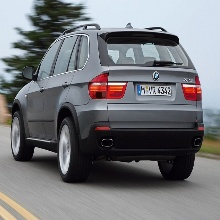no damage: (9, 24, 205, 183)
